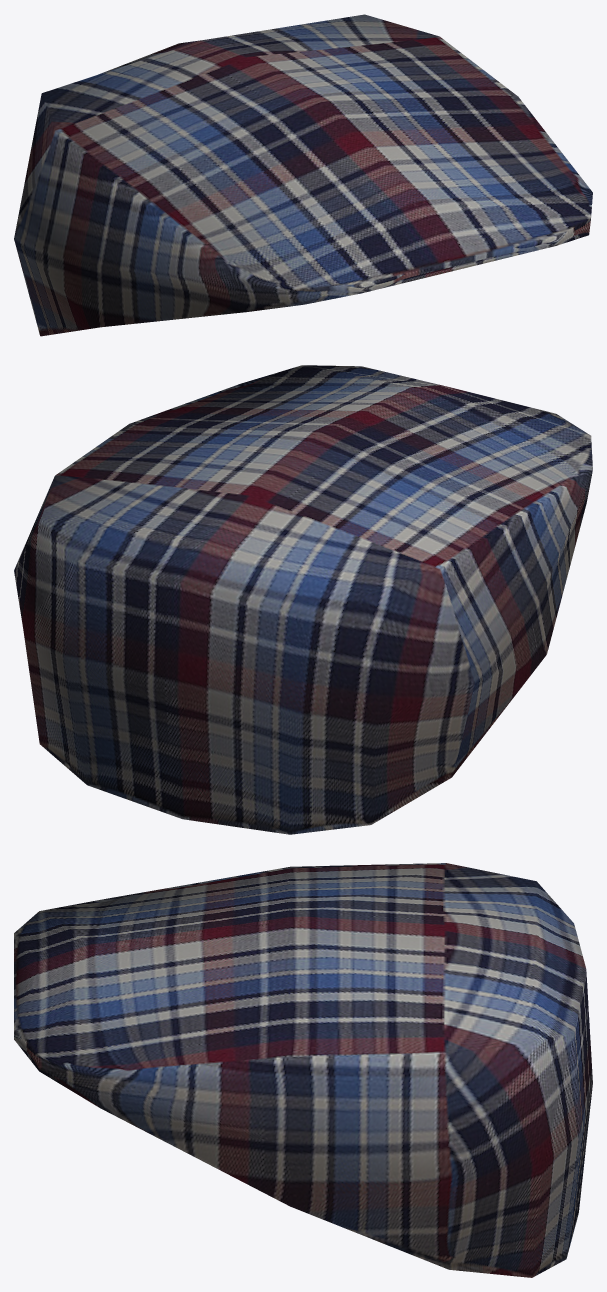
Rendered from TPMHatC.fbx.
The picture shows the model from 3 angles, top to bottom: view 1: azimuth 30°, elevation 25°; view 2: azimuth 150°, elevation 25°; view 3: azimuth 270°, elevation 25°; orthographic projection. The views are drawn at different scales.
Parts seen in each view (by area): view 1: TPMHatC; view 2: TPMHatC; view 3: TPMHatC.
Part boxes in pixels (box(x1,y1,x2,y2)): TPMHatC: box(14, 14, 592, 336); TPMHatC: box(14, 365, 592, 834); TPMHatC: box(14, 863, 592, 1277).
Bounding box in the file's own units: 21.15 × 12.52 × 22.55.
1 material, 1 textured.
